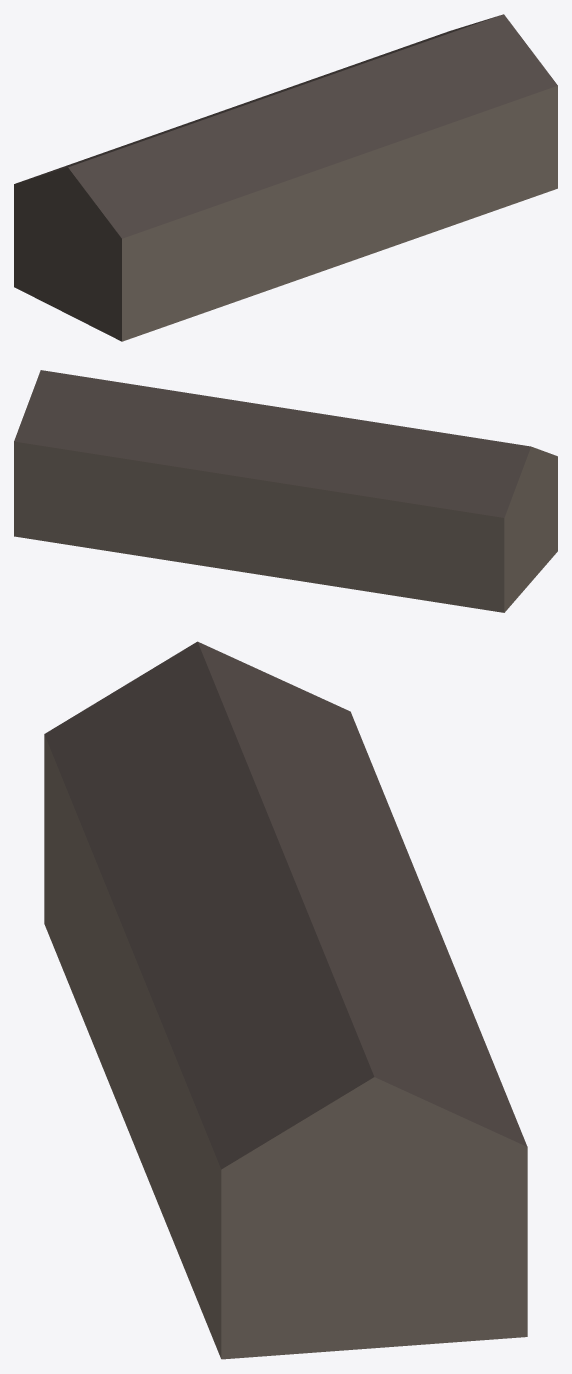
3 renders of one model, top to bottom at view 1: azimuth 30°, elevation 25°; view 2: azimuth 150°, elevation 25°; view 3: azimuth 270°, elevation 25°, orthographic. The views are drawn at different scales.
Parts seen in each view (by area): view 1: HP-w408450696; view 2: HP-w408450696; view 3: HP-w408450696.
Part boxes in pixels (x1,y1,x2,y2): HP-w408450696: (14,14,557,341); HP-w408450696: (14,370,557,612); HP-w408450696: (44,641,527,1359).
Size of the model in its own units: 31.03 by 8.57 by 13.84.
